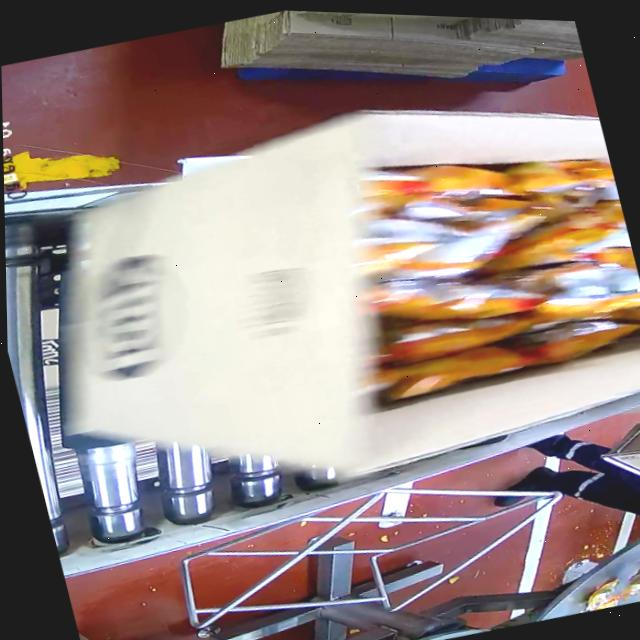FRENCH_CHEESE: (337, 117, 640, 411)
